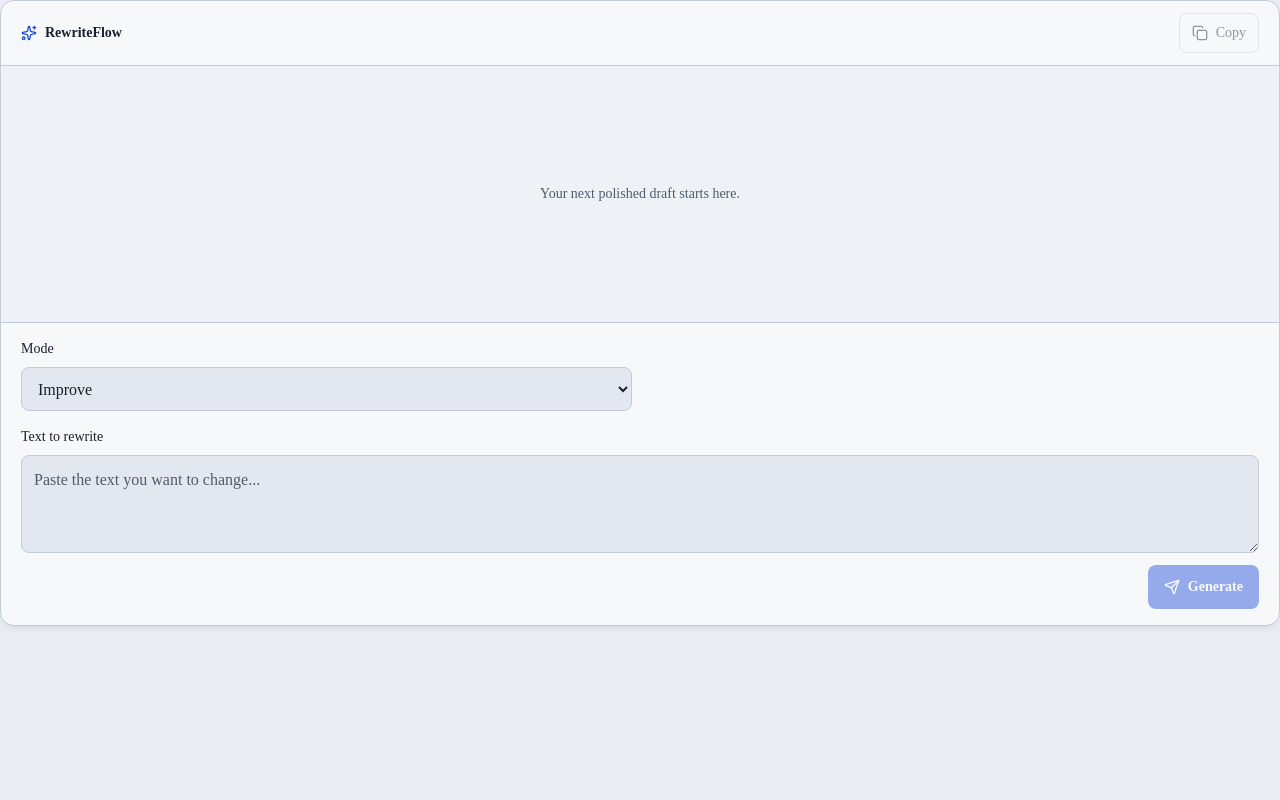
Test case: RewriteFlowChat › enables Generate for draft text, sends the trimmed draft, and clears the input
The width and height of the screenshot is (1280, 800).
Expected: the button "Generate" is disabled, [1148,565,1259,609]
Type "  Please improve this draft.  " into the text box labelled "Text to rewrite".
click(640, 504); type("  Please improve this draft.  ")  # box [21,455,1259,553]
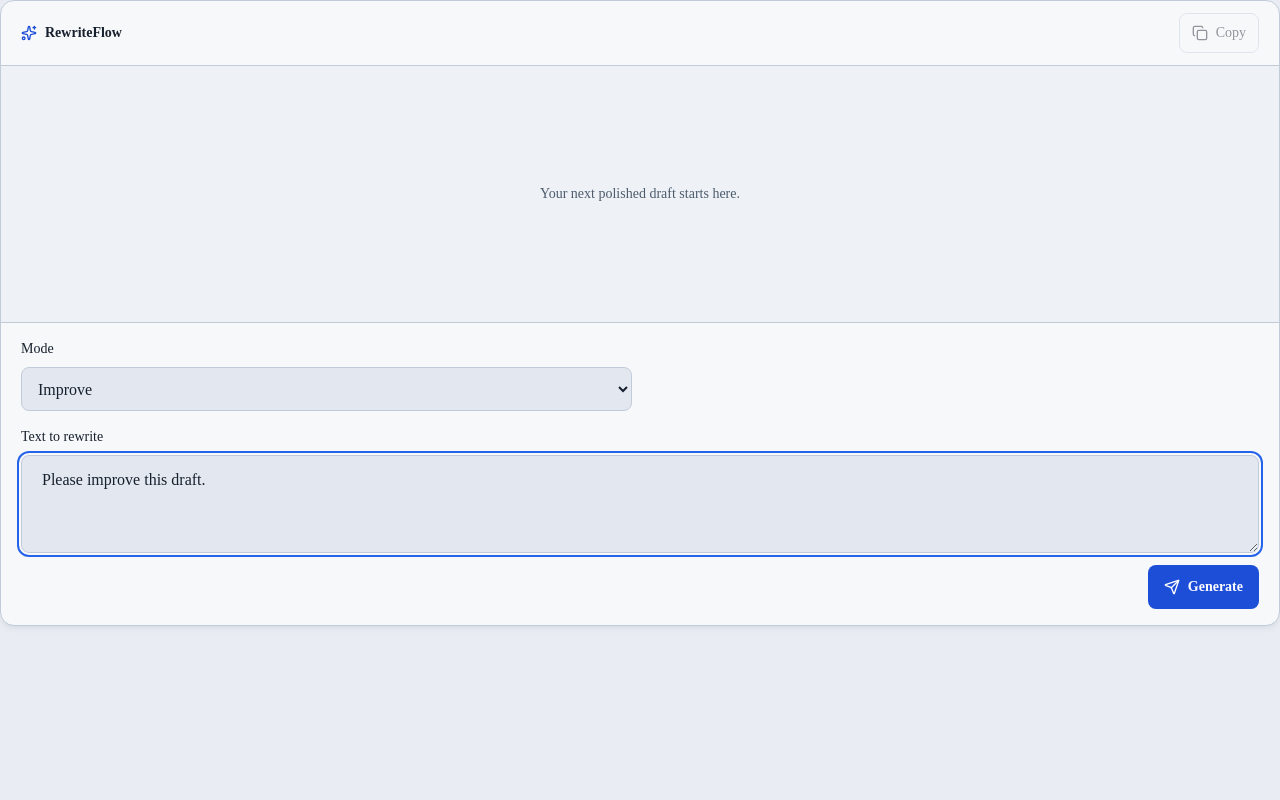
Now the button "Generate" is enabled
Click the button "Generate".
click(1203, 587)  # box [1148,565,1259,609]
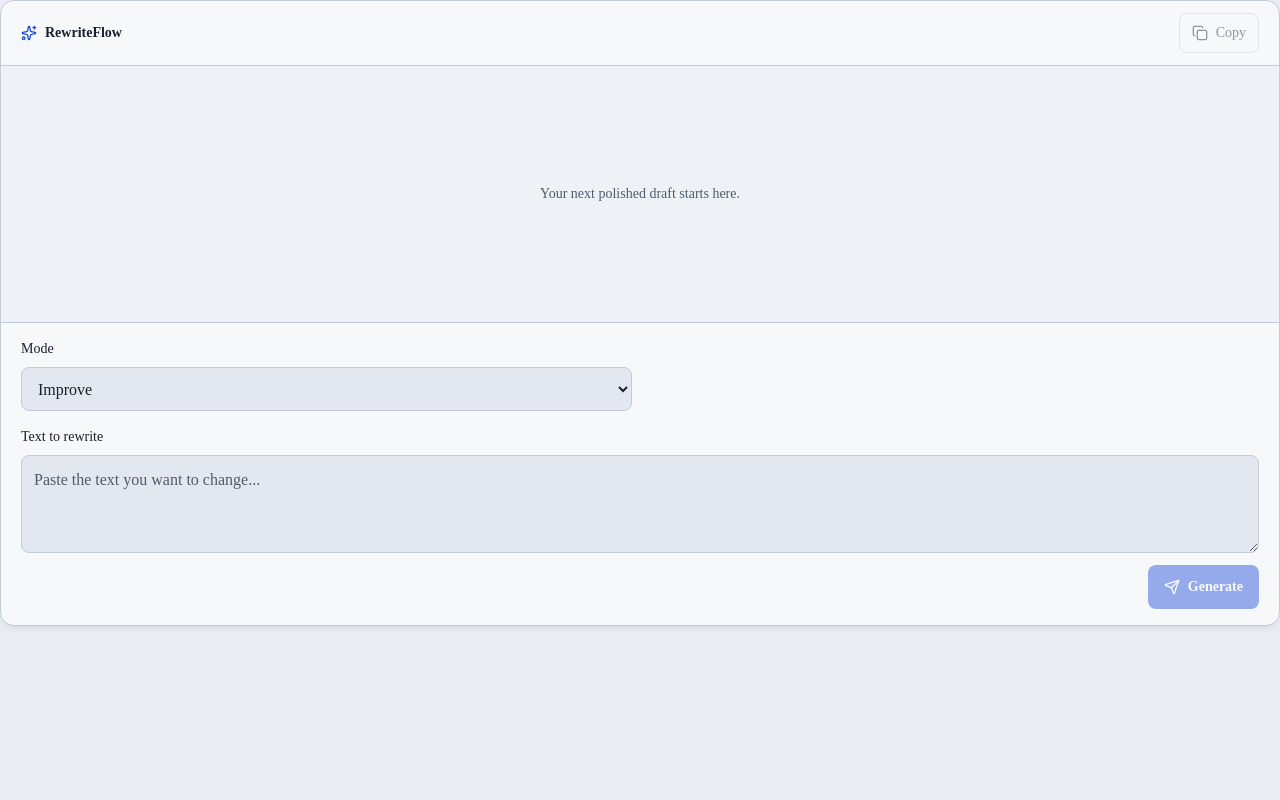
Now the text box labelled "Text to rewrite" is empty, box [21,455,1259,553]
Now the button "Generate" is disabled, box [1148,565,1259,609]
